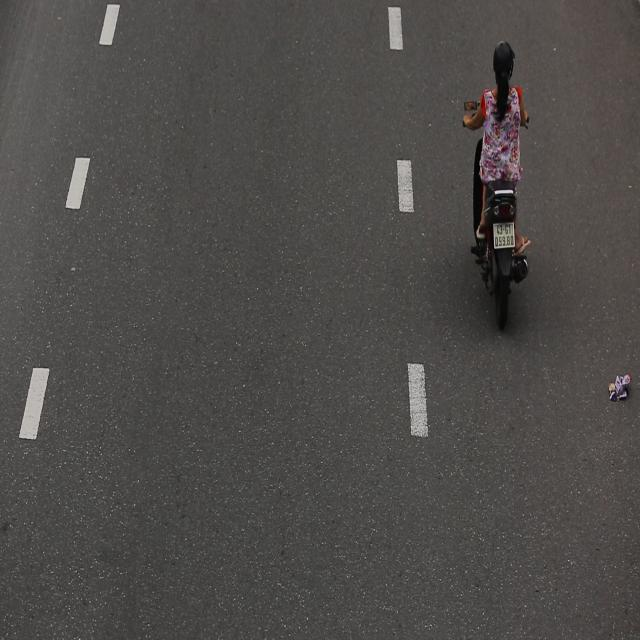motorbike: (462, 33, 535, 329)
